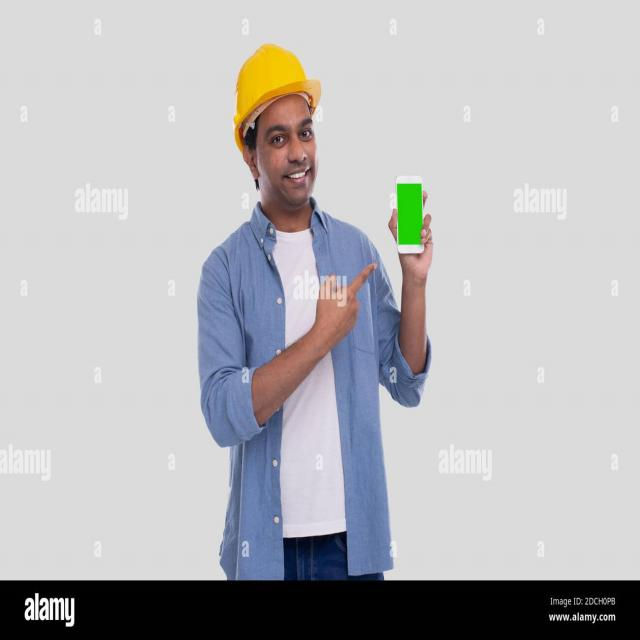Safety-Helmet: (232, 39, 322, 126)
